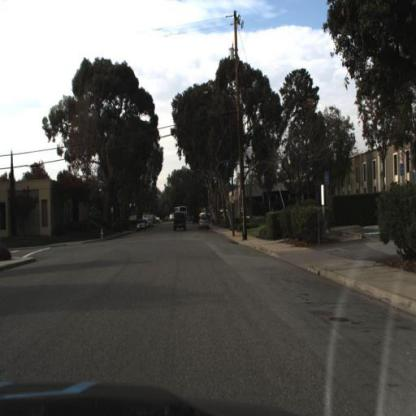car: (173, 211, 189, 234)
